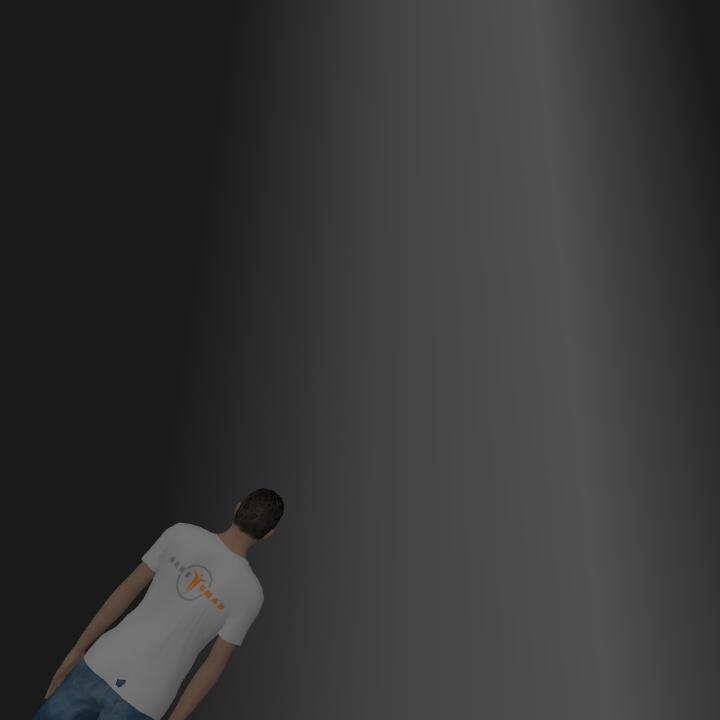victim: (30, 487, 284, 718)
